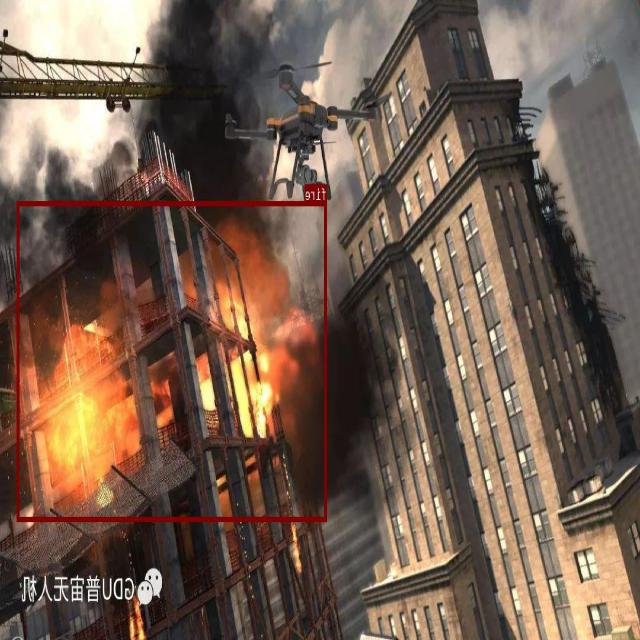fire: (18, 200, 328, 521)
